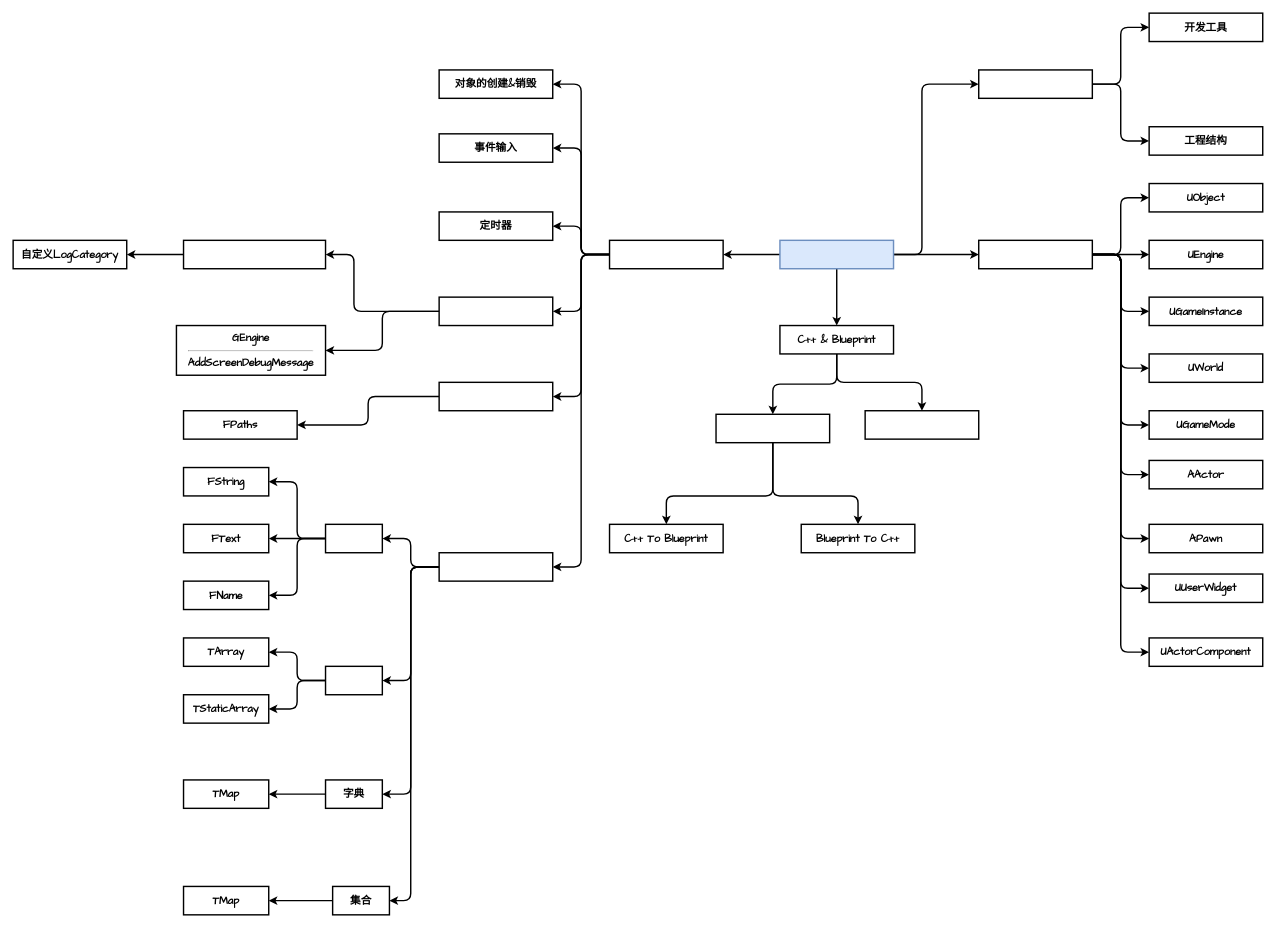
Image size: 1275x927. Some labels were removed from this diagram. The shapes that lost their labels are listed below. From the top down, each one's centre as x and y in pixels, then its label:
(1035,84): 开发环境搭建
(254,254): UE_LOG
(665,254): 基础功能
(836,254): Unreal C++基础开发
(1035,254): 基础类
(495,311): 输出打印
(495,396): 文件路径
(772,428): C++ & Blueprint交互
(921,424): 相关宏 & 修饰符
(353,538): 文本
(495,566): 基础数据结构
(353,680): 数组
